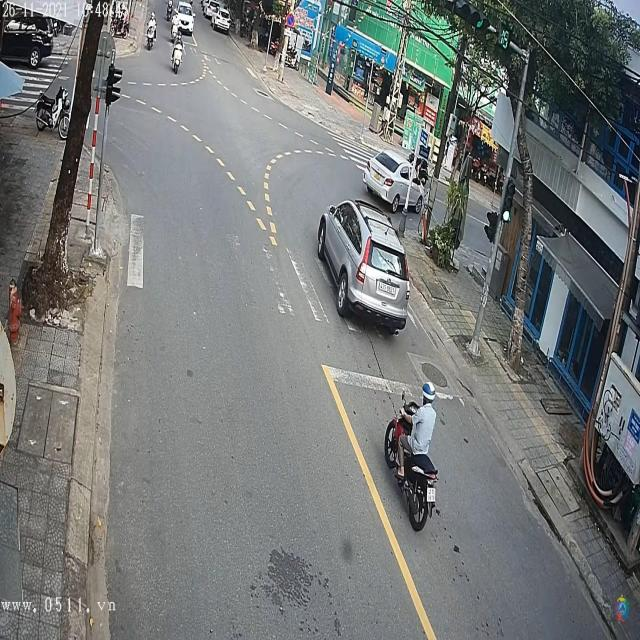car: (316, 201, 412, 336), (360, 148, 428, 214), (0, 23, 54, 70), (179, 2, 194, 18)
motorcycle: (382, 392, 438, 534), (172, 41, 183, 74), (144, 19, 156, 48)
